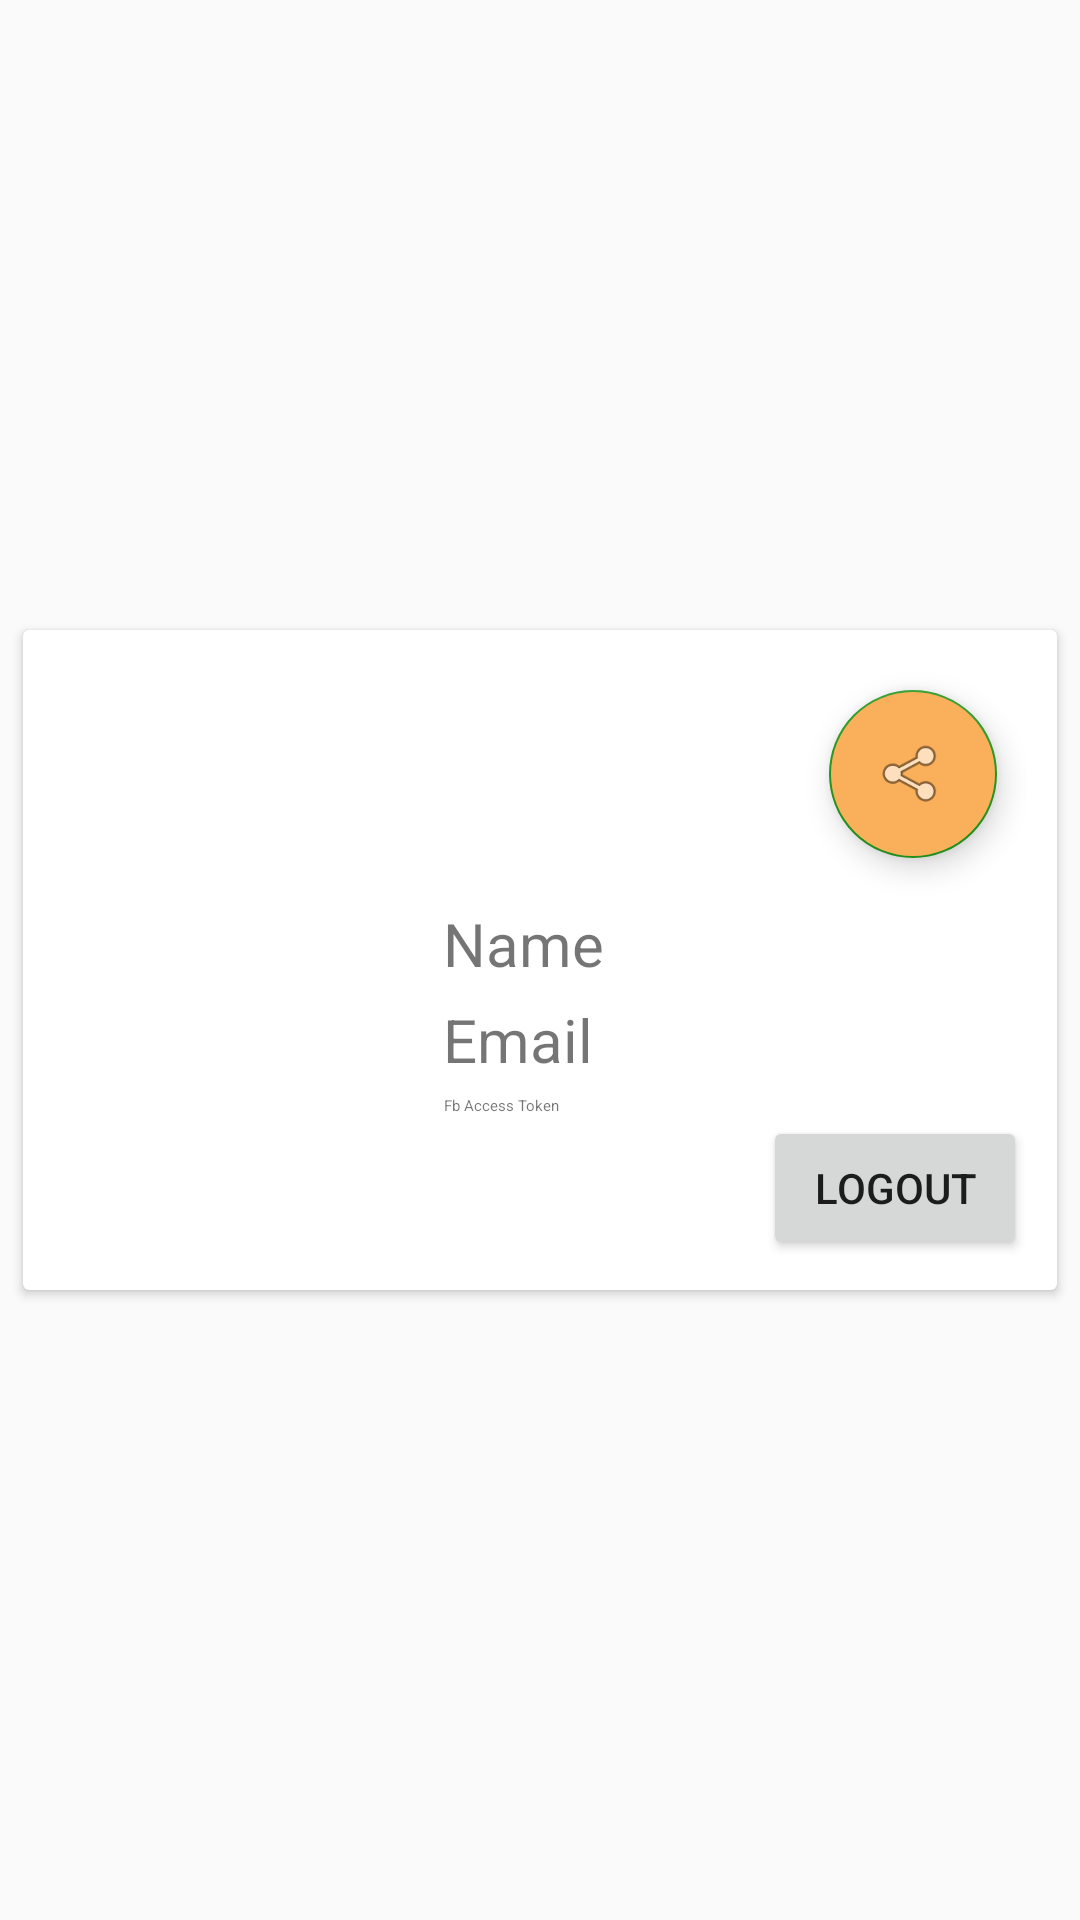

Screen size 1080w x 1920h. Icon name, then its box in pixels as bbox(x1, y1, x2, y2):
share: bbox(829, 690, 997, 858)
